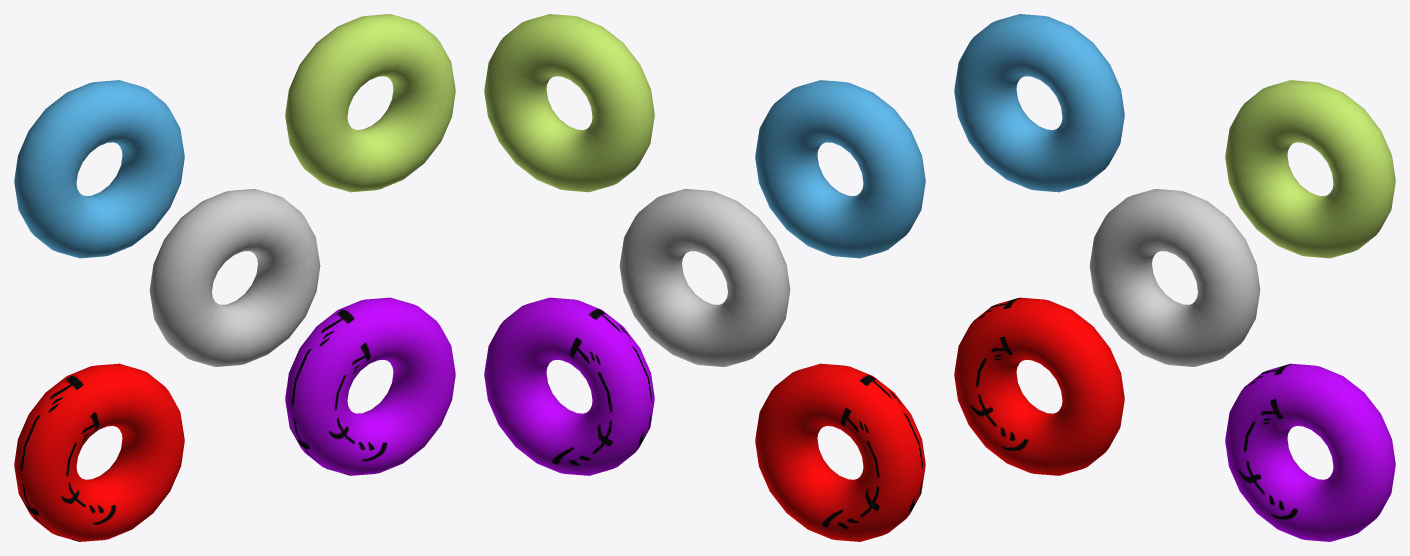
File: Donuts.fbx
The picture shows the model from 3 angles, left to right: view 1: azimuth 30°, elevation 25°; view 2: azimuth 150°, elevation 25°; view 3: azimuth 330°, elevation 25°; orthographic projection.
Parts seen in each view (by area): view 1: pTorus5; view 2: pTorus5; view 3: pTorus5.
Boxes of the visible parts, box(x1,y1,x2,y2) form: pTorus5: box(14, 14, 455, 541); pTorus5: box(484, 14, 925, 541); pTorus5: box(954, 14, 1395, 541).
Bounding box in the file's own units: 8 × 8 × 1.
